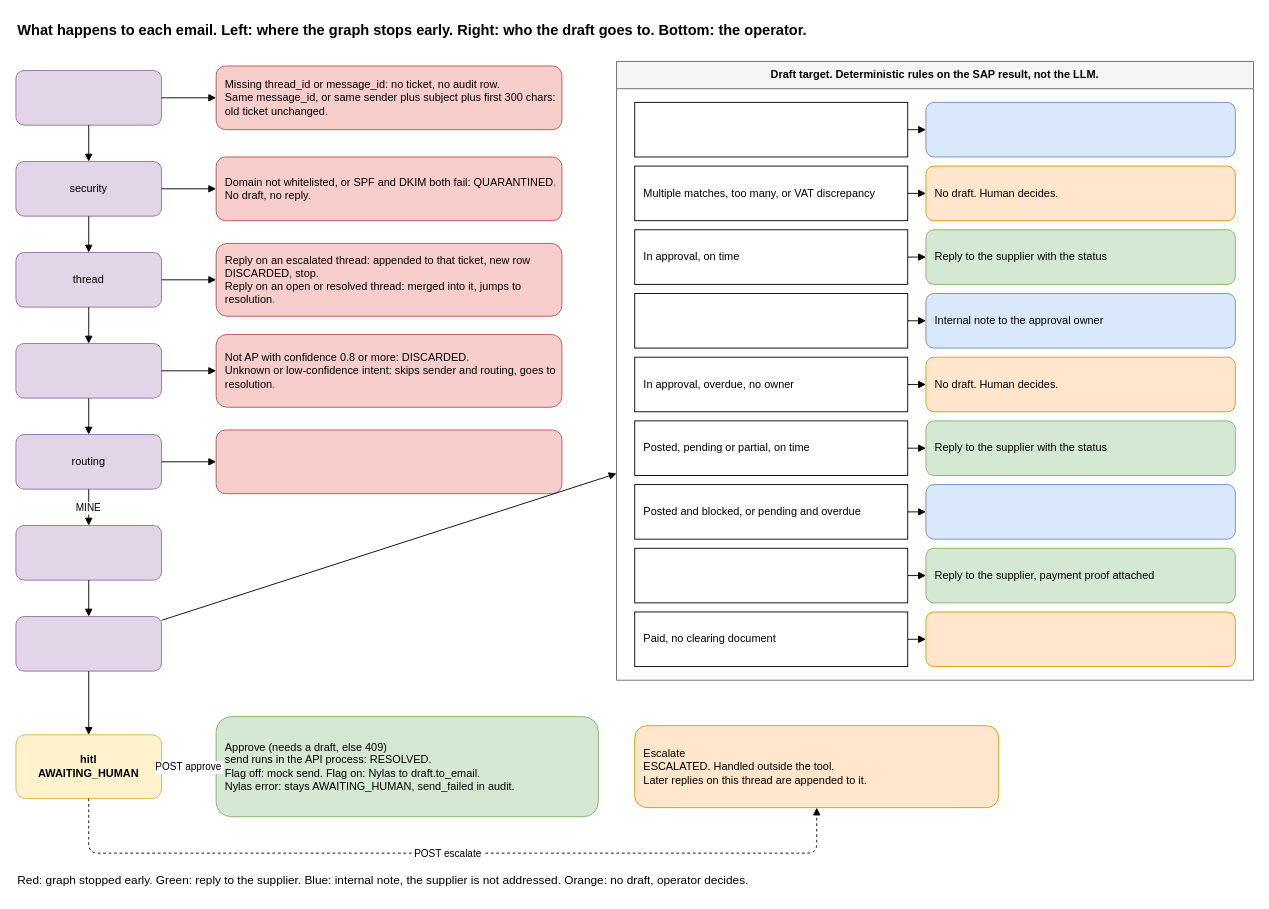
The diagram is 1269 pixels wide and 909 high, and some of its shapes have lost their labels. The centre of each missing label's shape, as x and y in pixels:
"draft pick_target" goes at [88,643].
"In approval, overdue or near due, owner known" goes at [771,320].
"ingest" goes at [88,97].
"Internal note to invoicing@company.com" goes at [1080,129].
"Internal note to payments (PAYMENTS_EMAIL)" goes at [1080,511].
"No draft. UI warns: do not confirm payment." goes at [1080,639].
"Not found in SAP" goes at [771,129].
"Paid, with clearing document" goes at [771,575].
"resolution SAP lookup" goes at [88,552].
"Routing rule points to another operator: DELEGATED. No SAP lookup, no draft." goes at [388,461].
"triage, intent, sender" goes at [88,370].
